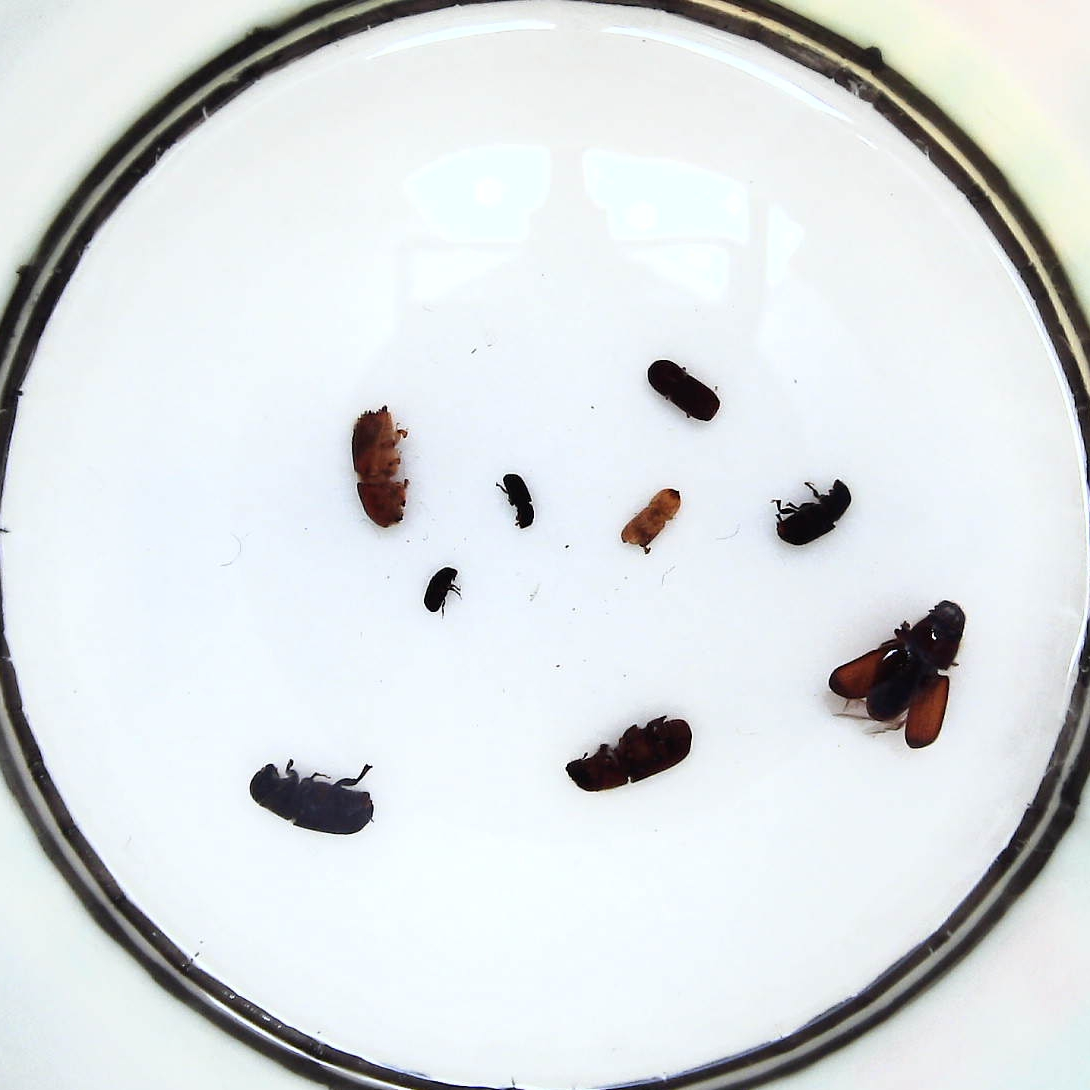Boerner: (350, 404, 413, 528)
Leconte: (829, 601, 967, 748), (566, 717, 692, 792), (249, 764, 374, 836)
acuminatus: (502, 472, 534, 530), (424, 567, 456, 612)
armandi: (775, 479, 852, 545)
coleoptera: (620, 488, 681, 546)
linnaeus: (648, 358, 720, 422)
